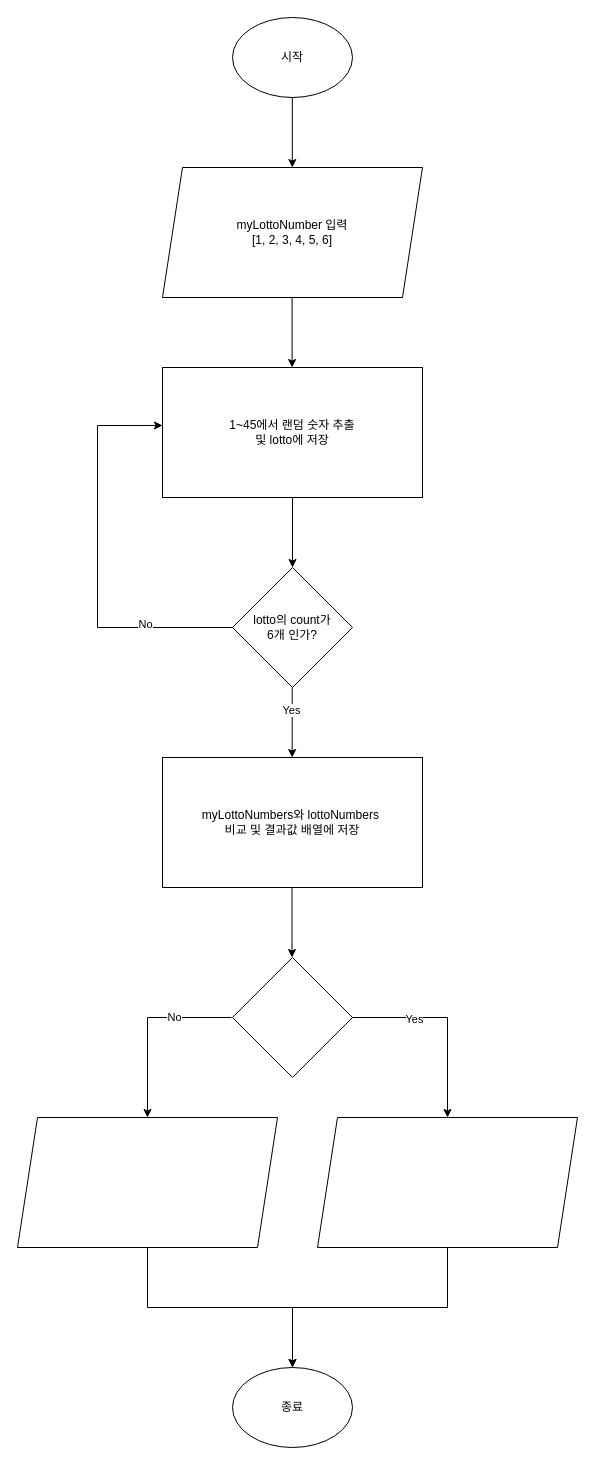
This 595x1465 diagram has some shape labels left out. Each missing label, with the centre of its shape:
"아쉽지만 겹치는 번호가 없습니다." 출력: [447,1182]
결과값을 String으로 변환 후 대괄호 삭제 "축하합니다! 겹치는 번호는 2, 3 입니다!" 출력: [147,1182]
결과값이 비었는가: [292,1017]
